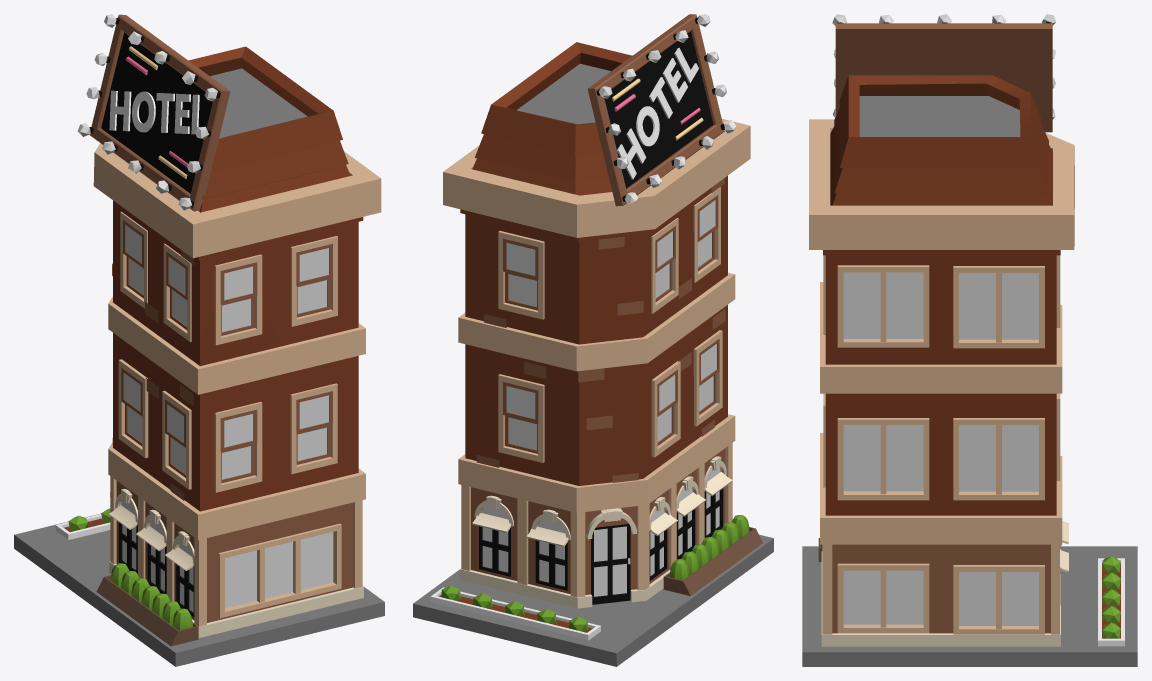
File: hotel.fbx
3 views of the same model, side by side, from view 1: azimuth 30°, elevation 25°; view 2: azimuth 150°, elevation 25°; view 3: azimuth 270°, elevation 25° (orthographic). The views are drawn at different scales.
Visible parts, largest first — view 1: Plane.091, Plane.033, Plane.005, Plane.092, Plane.031, Plane.027, Plane.094, Plane.093, Plane.032, Plane.034, Plane.097, Plane.101; view 2: Plane.033, Plane.091, Plane.005, Plane.027, Plane.031, Plane.092, Plane.094, Plane.032, Plane.034, Plane.093, Plane.097, Plane.101; view 3: Plane.091, Plane.033, Plane.092, Plane.005, Plane.031, Plane.093, Plane.094, Plane.034, Plane.032, Plane.101.
Boxes of the visible parts, box(x1,y1,x2,y2) form: Plane.091: box(93, 143, 381, 626); Plane.033: box(64, 46, 363, 531); Plane.005: box(90, 14, 353, 622); Plane.092: box(121, 225, 333, 612); Plane.031: box(14, 513, 384, 666); Plane.027: box(89, 18, 220, 617); Plane.094: box(109, 489, 363, 637); Plane.093: box(210, 68, 307, 138); Plane.032: box(55, 90, 199, 539); Plane.034: box(68, 508, 192, 630); Plane.097: box(96, 575, 198, 646); Plane.101: box(77, 14, 217, 210); Plane.033: box(439, 42, 727, 632); Plane.091: box(443, 119, 750, 597); Plane.005: box(471, 14, 725, 594); Plane.027: box(479, 17, 724, 604); Plane.031: box(413, 534, 773, 666); Plane.092: box(481, 200, 720, 596); Plane.094: box(460, 456, 732, 608); Plane.032: box(430, 47, 698, 640); Plane.034: box(441, 515, 749, 631); Plane.093: box(517, 63, 610, 124); Plane.097: box(663, 527, 762, 595); Plane.101: box(598, 14, 736, 204); Plane.091: box(809, 119, 1074, 634); Plane.033: box(823, 75, 1120, 638); Plane.092: box(843, 272, 1038, 625); Plane.005: box(832, 23, 1052, 633); Plane.031: box(802, 546, 1137, 666); Plane.093: box(859, 96, 1020, 136); Plane.094: box(821, 521, 1068, 646); Plane.034: box(820, 544, 1120, 638); Plane.032: box(1098, 558, 1124, 646); Plane.101: box(832, 14, 1055, 119).
Size of the model in its own units: 0.5991 by 1.51 by 0.801.
